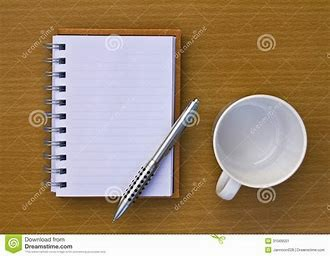pen: (114, 97, 196, 228)
